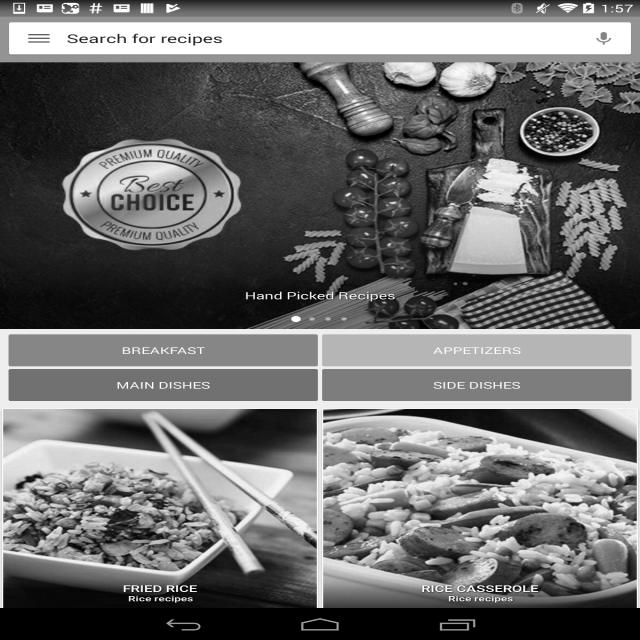Button: (8, 334, 318, 366), (322, 334, 632, 366), (8, 369, 318, 401), (322, 369, 632, 401)
ImageView: (0, 62, 640, 329), (3, 409, 317, 609), (323, 409, 637, 609), (590, 25, 617, 52), (26, 30, 52, 46)
TextView: (67, 25, 590, 52), (3, 569, 317, 609), (323, 569, 637, 609), (0, 289, 640, 302), (17, 29, 134, 47), (572, 22, 631, 54)
